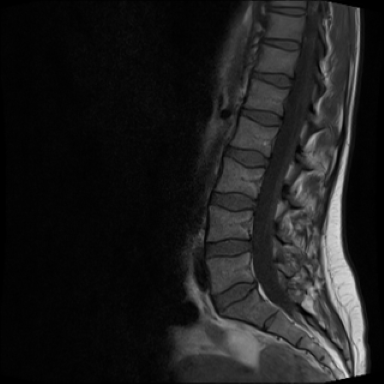Normal IVD: (206, 274, 260, 318), (198, 231, 258, 267), (205, 182, 262, 215), (220, 140, 274, 173), (245, 63, 297, 92), (240, 104, 285, 130), (256, 35, 303, 55), (265, 4, 308, 18)
